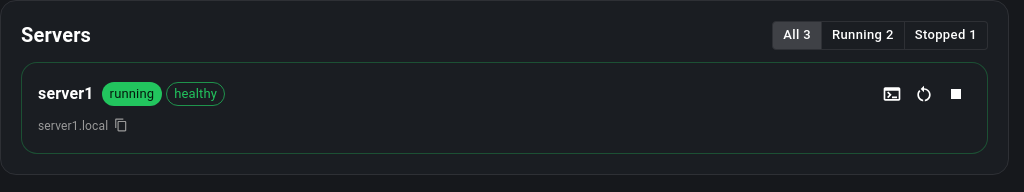
Scenario: ServerOverview › status filter › applies maxItems after filtering
This screenshot has width=1024, height=192.
What coordinates should you click on to do the following:
click the button "Stopped 1"
I would click on:
 (946, 35)
Its box is left=904, top=21, right=988, bottom=50.
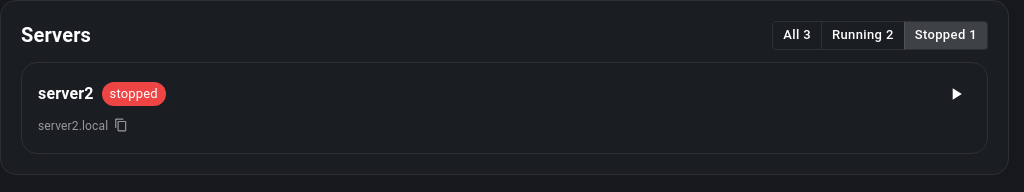
Check: the heading "server2" is shown, box left=38, top=80, right=94, bottom=108
